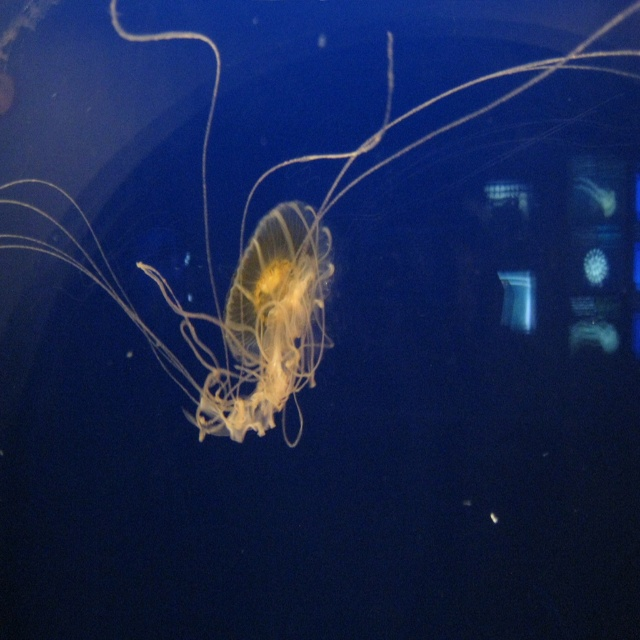Jellyfish: (43, 36, 600, 502)
